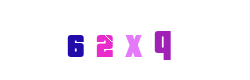2: (85, 0, 165, 80)
6: (35, 0, 115, 80)
Q: (96, 0, 176, 80)
X: (94, 0, 174, 80)
